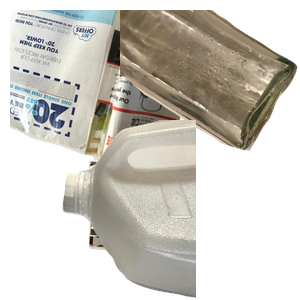glass: (120, 10, 300, 153)
paper: (10, 10, 215, 186)
plastic: (60, 120, 300, 300)
trash: (86, 158, 242, 300)
